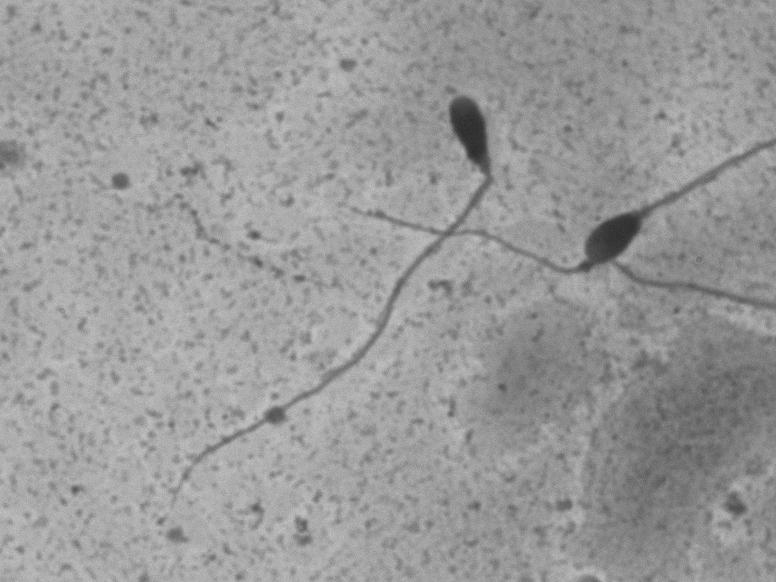Abnormal: (138, 68, 506, 522), (578, 113, 740, 286)
